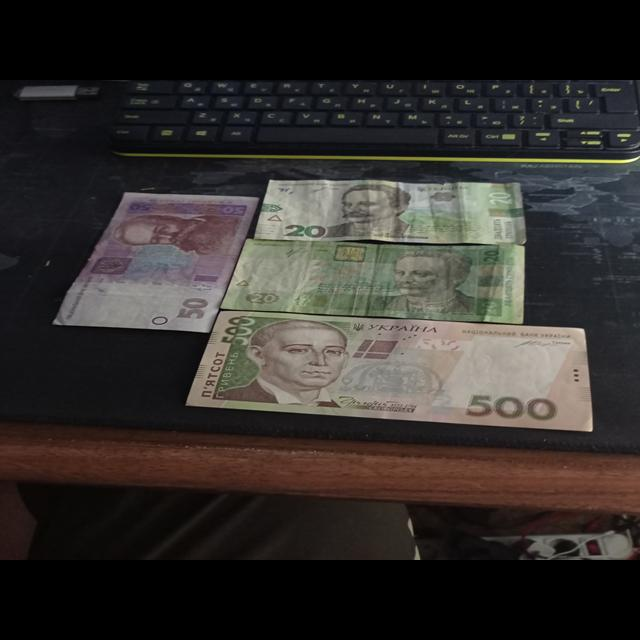20uah: (222, 240, 525, 323), (255, 177, 526, 241)
500uah: (187, 310, 592, 430)
50uah: (54, 192, 258, 331)
